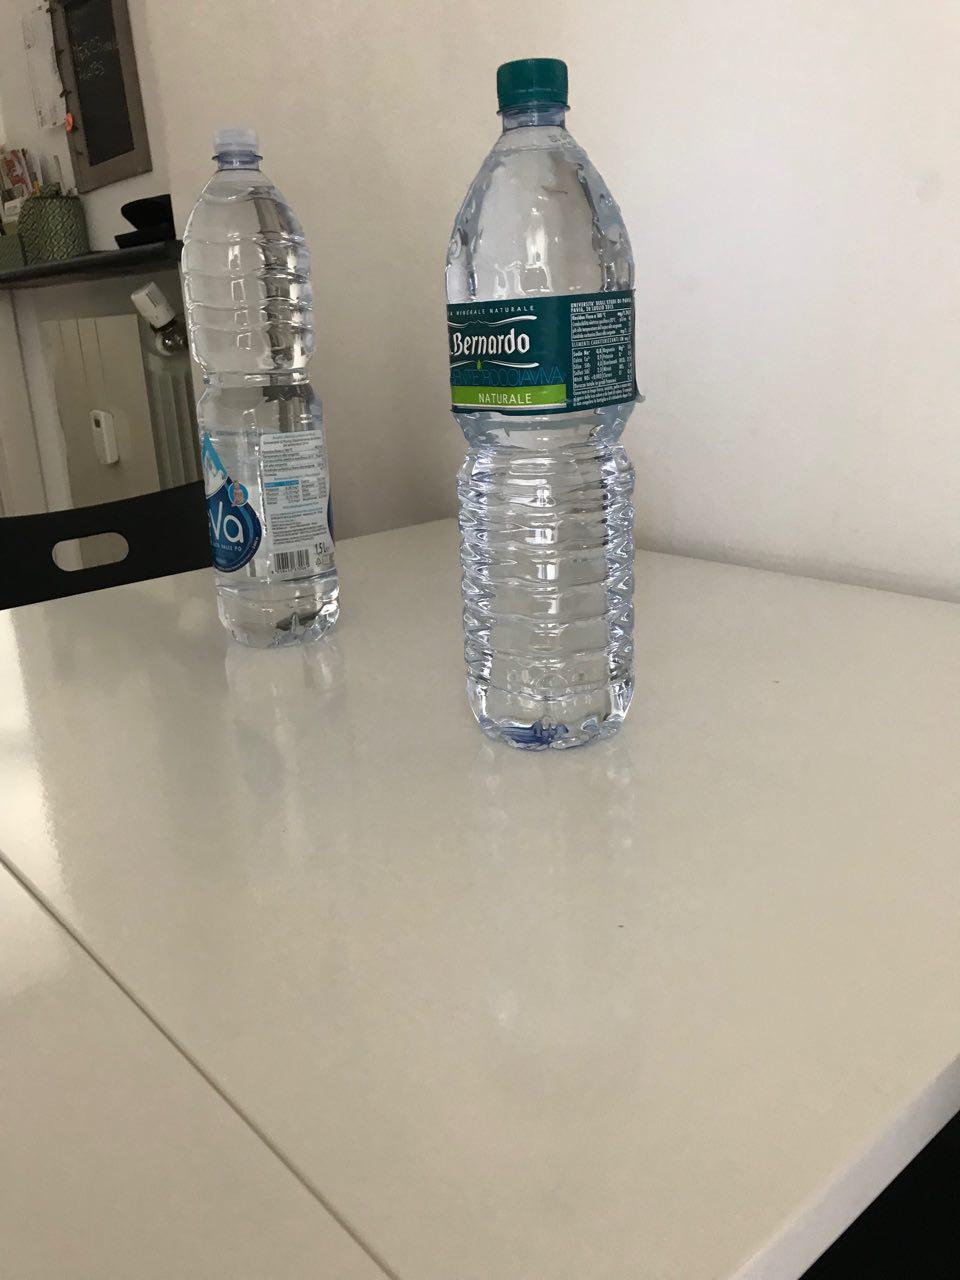san_bernardo: (444, 57, 638, 752)
